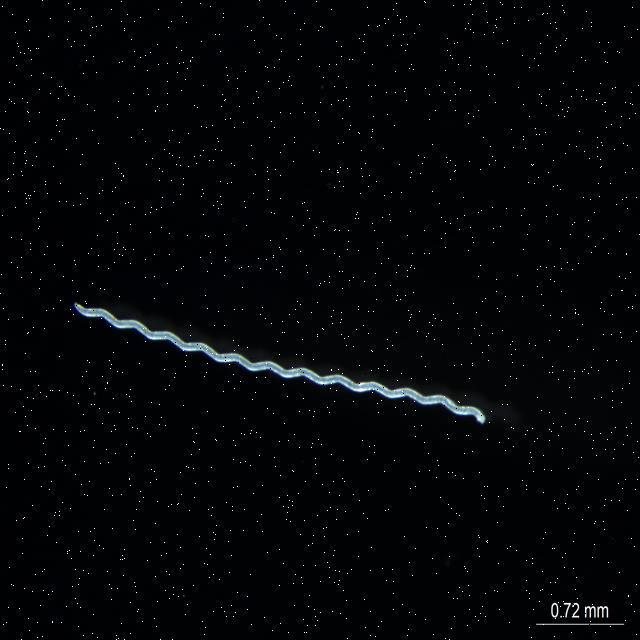Fibre: (66, 299, 490, 433)
